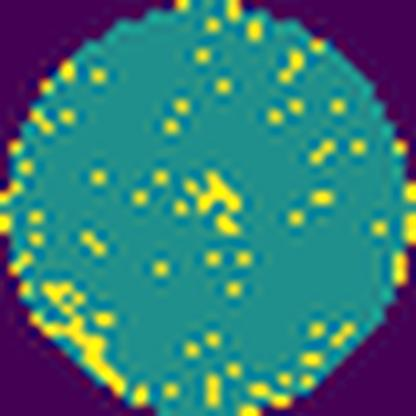Edge-Loc: (26, 278, 132, 398)
